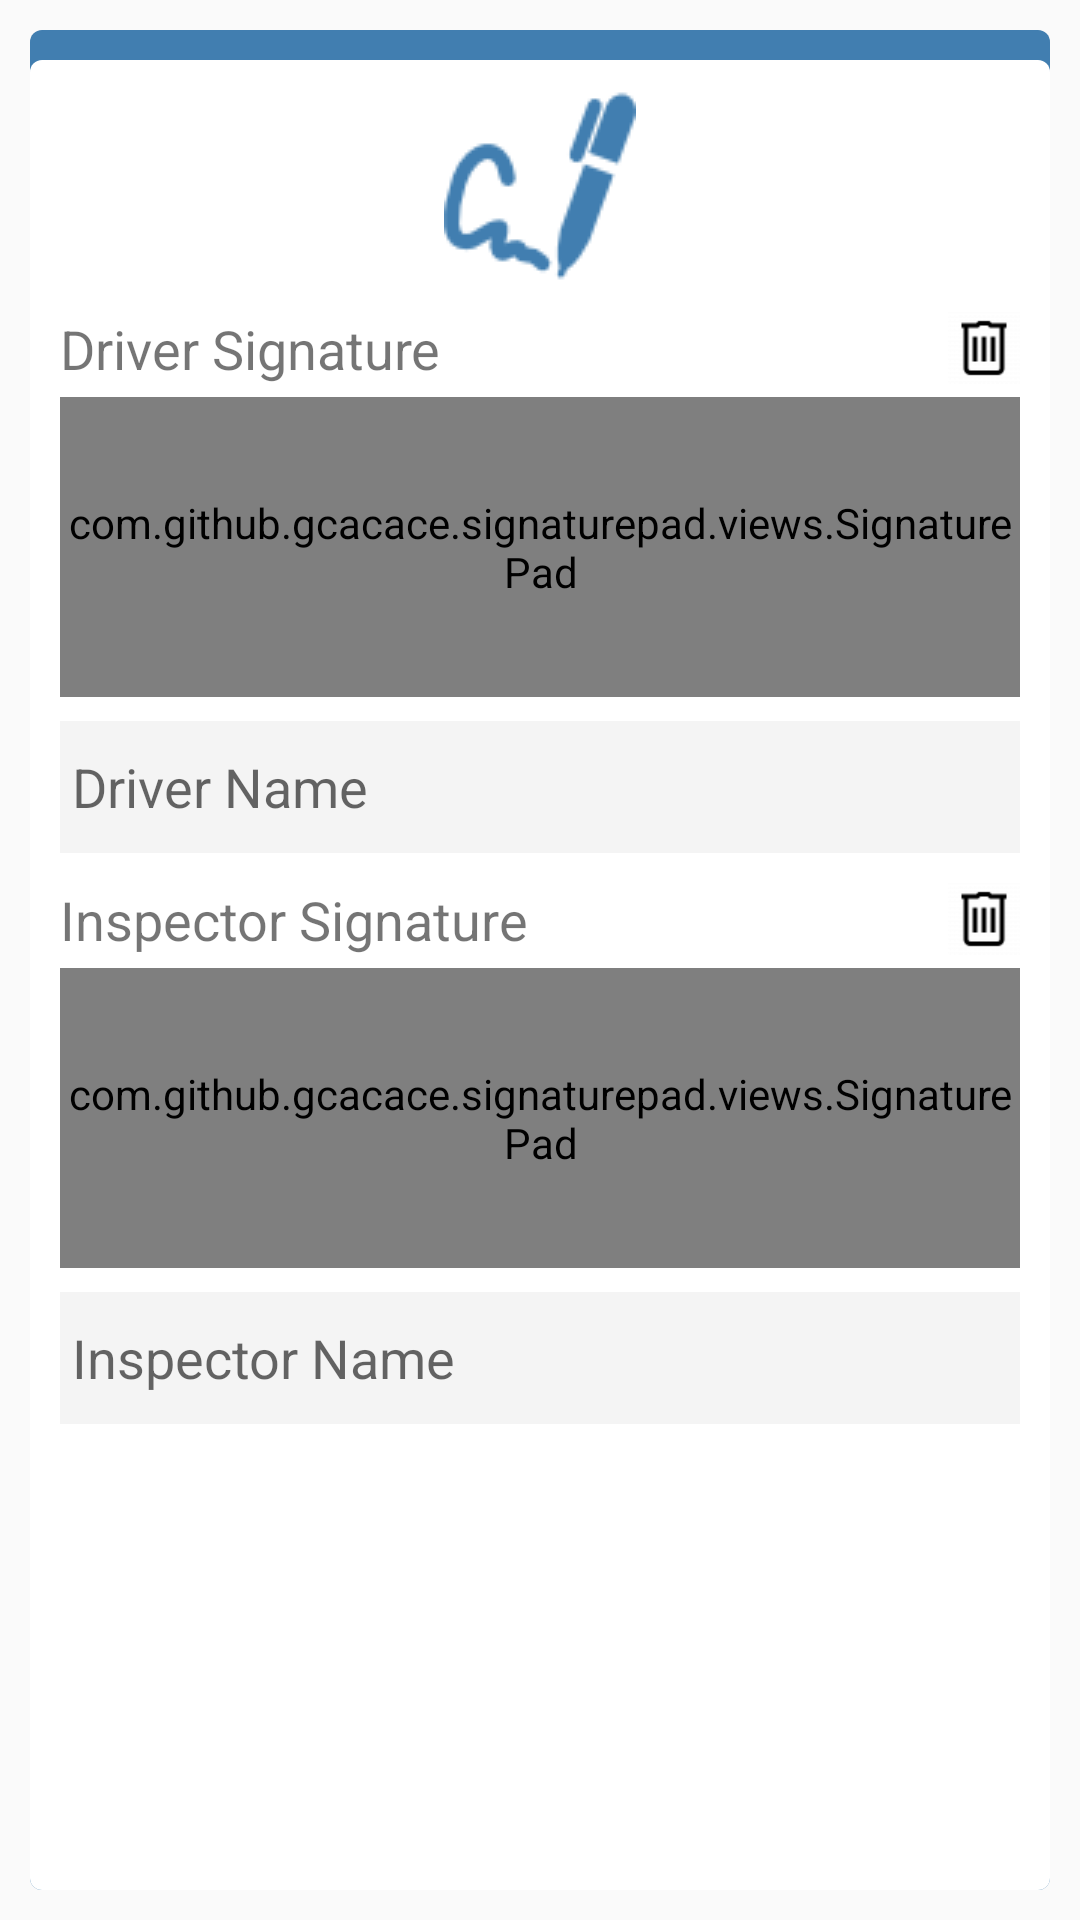

Named icons in this screenshot (1080w x 1920h) and their centers, (x,y):
clear: (984,348), (984,919)
